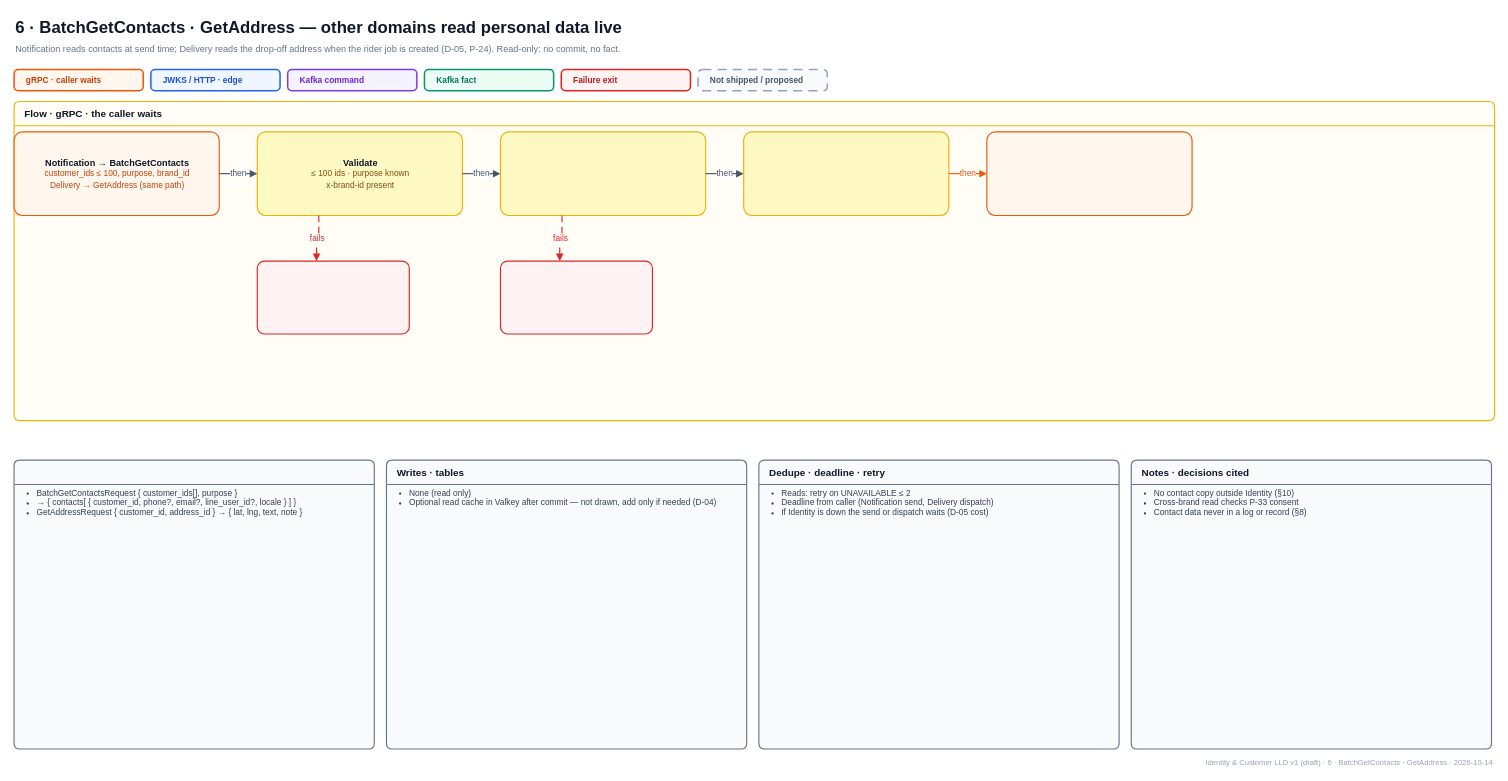
Some shapes in this 1508 by 781 pixel diagram are drawn without their labels. Each missing label, with the box of its shape:
Apply consent drop DELETED · drop no-consent other brand only with share consent: (743, 131, 949, 216)
Contract · fields (draft): (13, 459, 375, 749)
INVALID_ARGUMENT too many ids / bad purpose → 400: (256, 260, 409, 334)
Load customer, contact, consent (or one address row): (500, 131, 706, 216)
NOT_FOUND GetAddress: no such address: (500, 260, 653, 334)
Return contacts / address missing ids omitted: (986, 131, 1192, 216)
